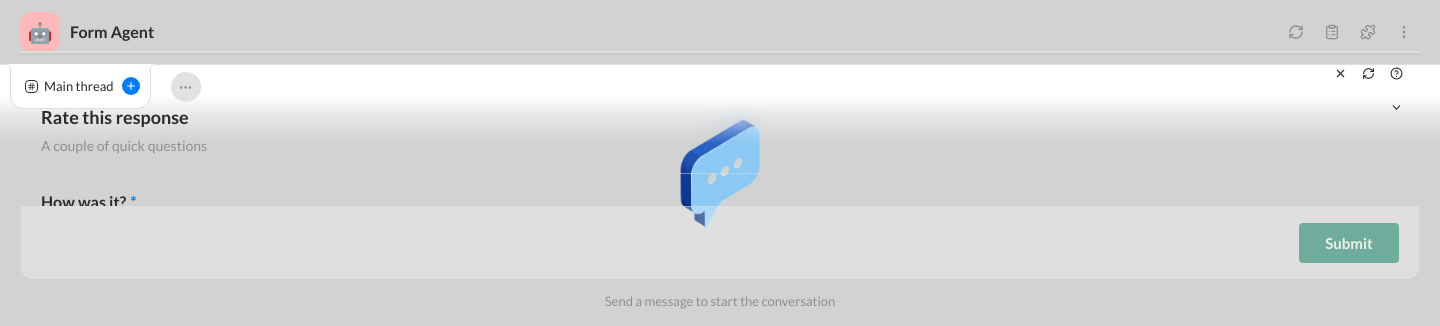
Test case: ChatView: async form nudge card renders from the pending_forms snapshot › minimizing the async form collapses it to the bar, keeps the composer hidden, and expanding restores the card
Click the button with test id "form-minimize-btn". click: (1396, 107)
box: [1383,94,1409,120]
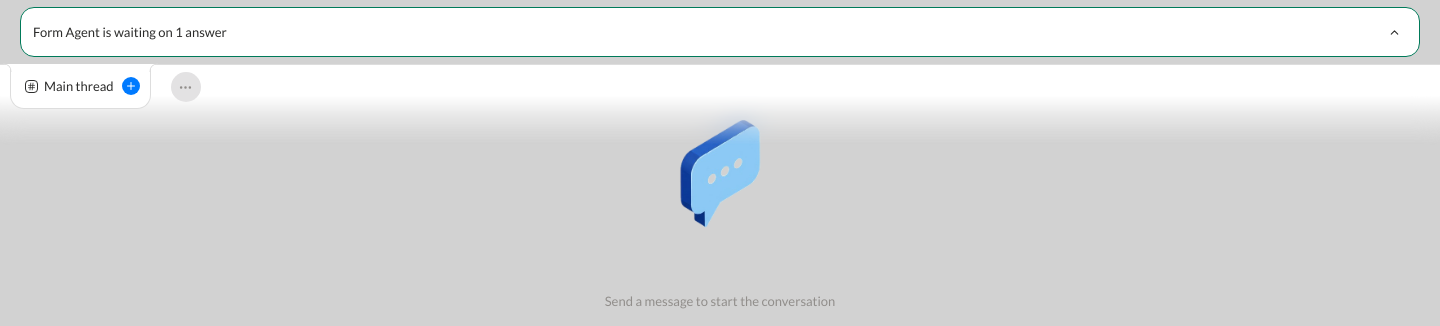
Check: the element with test id "minimized-form-bar" is shown, box [20,7,1420,57]
Check: the text "How was it?" is gone
Click the button with test id "minimized-form-expand-btn". click: (1394, 32)
box: [1381,19,1407,45]
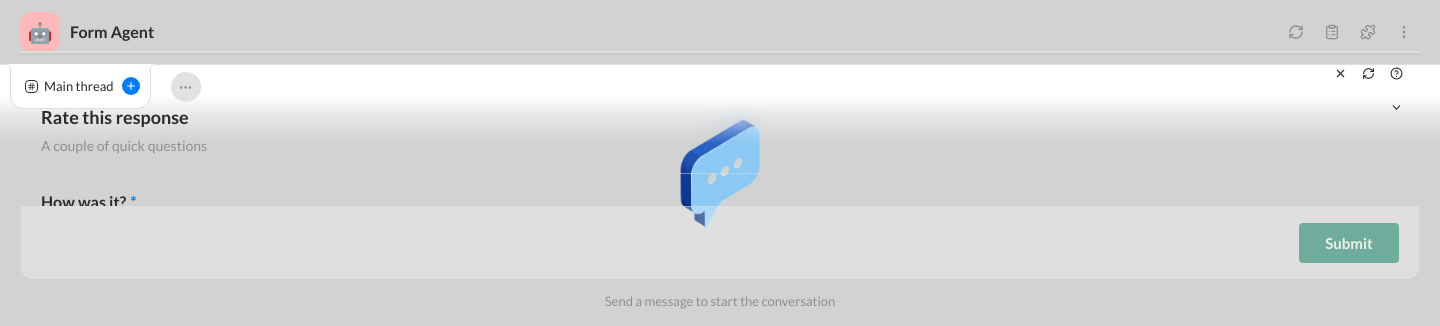
Check: the element with test id "minimized-form-bar" is gone
Check: the text "How was it?" is shown, box [41,192,126,206]
